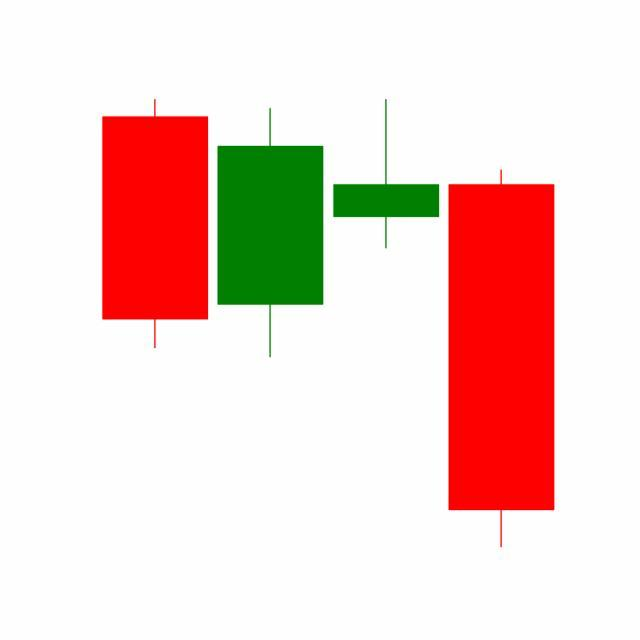Three Inside Up-Down: (211, 99, 555, 549)
